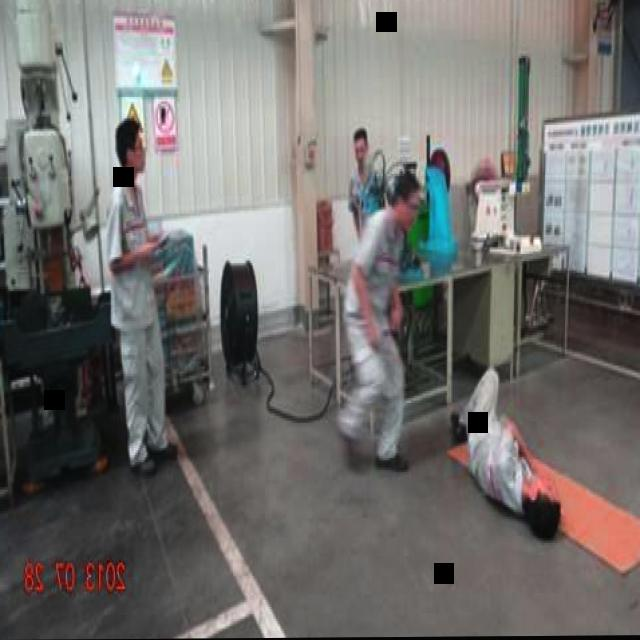Fall-Detected: (444, 346, 566, 546)
